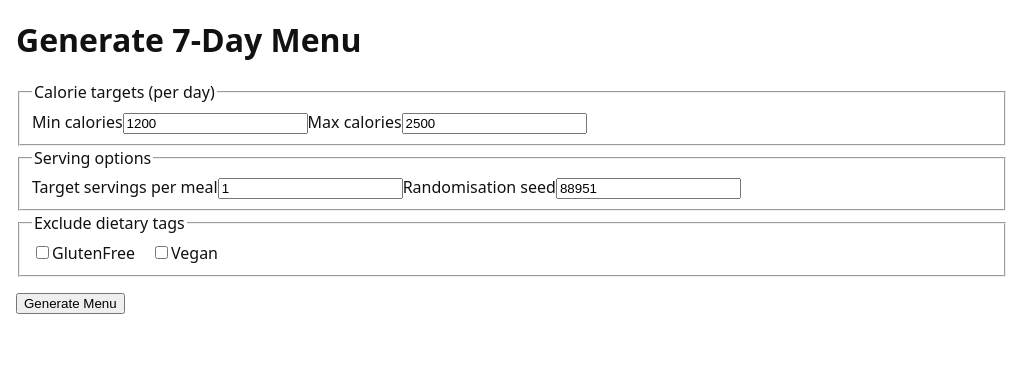
Test case: ConstraintForm › shows validation error when min > max
Replace the text in the number field labelled "Min calories" with "3000". click: coordinates (215, 123)
box: [123,113,308,134]
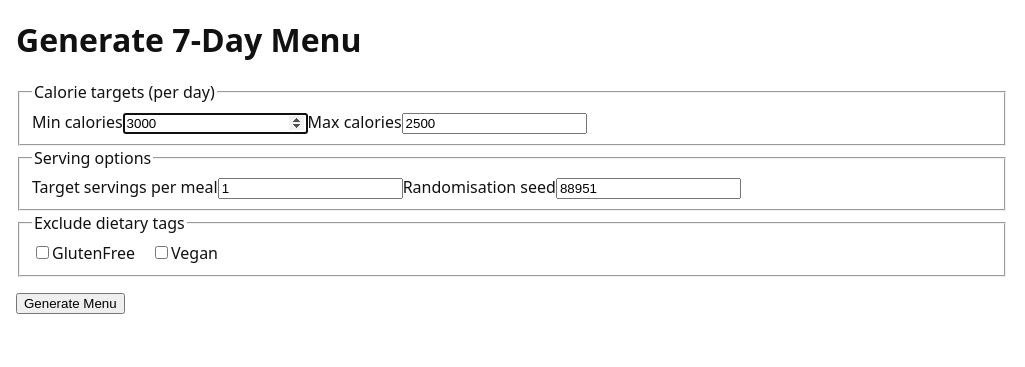
Replace the text in the number field labelled "Max calories" with "2000". click: coordinates (494, 123)
box: [402,113,587,134]
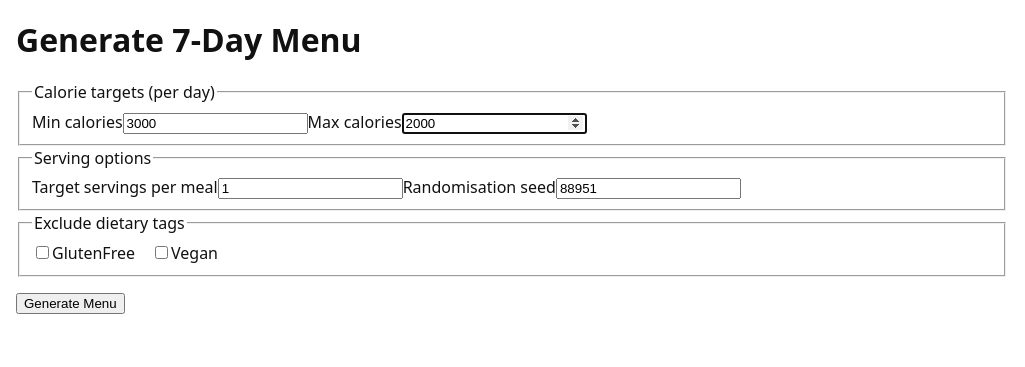
Click the button "Generate Menu". click: coordinates (70, 303)
box: [16,293,125,314]
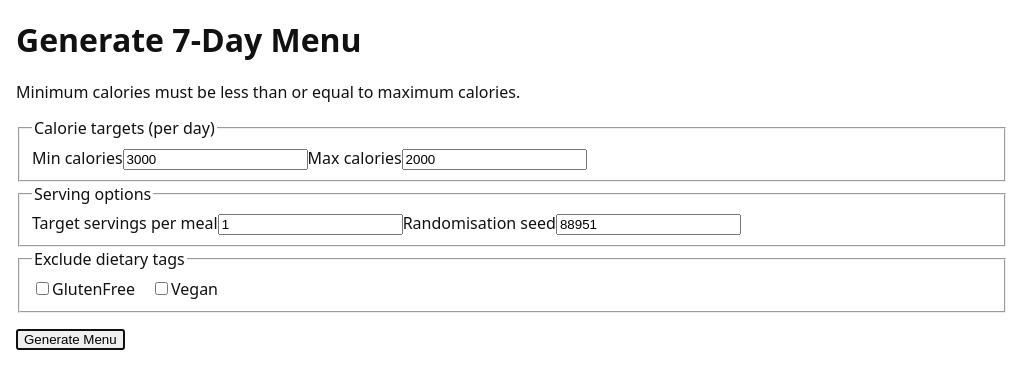
Check: the message shows "Minimum calories", box [16,81,520,103]
